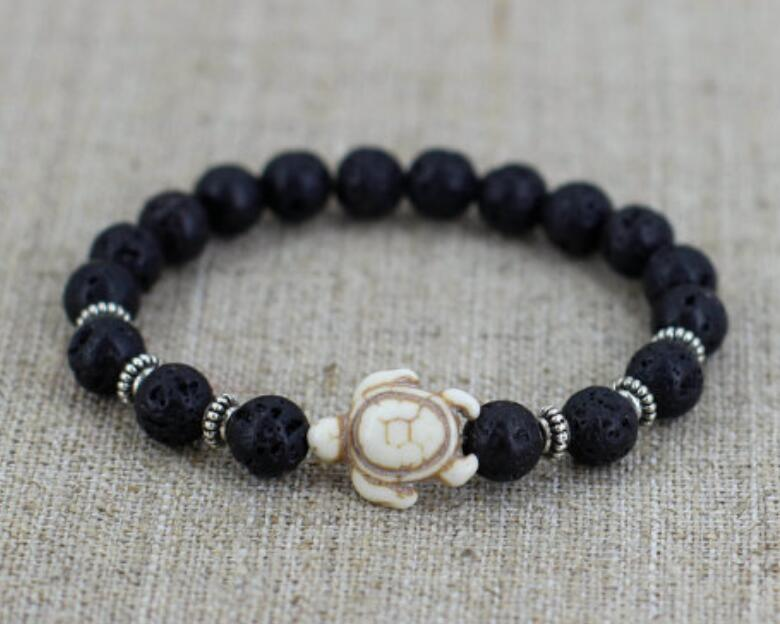volcanic_rock: (240, 402, 303, 463), (576, 399, 638, 459), (148, 371, 202, 430)
